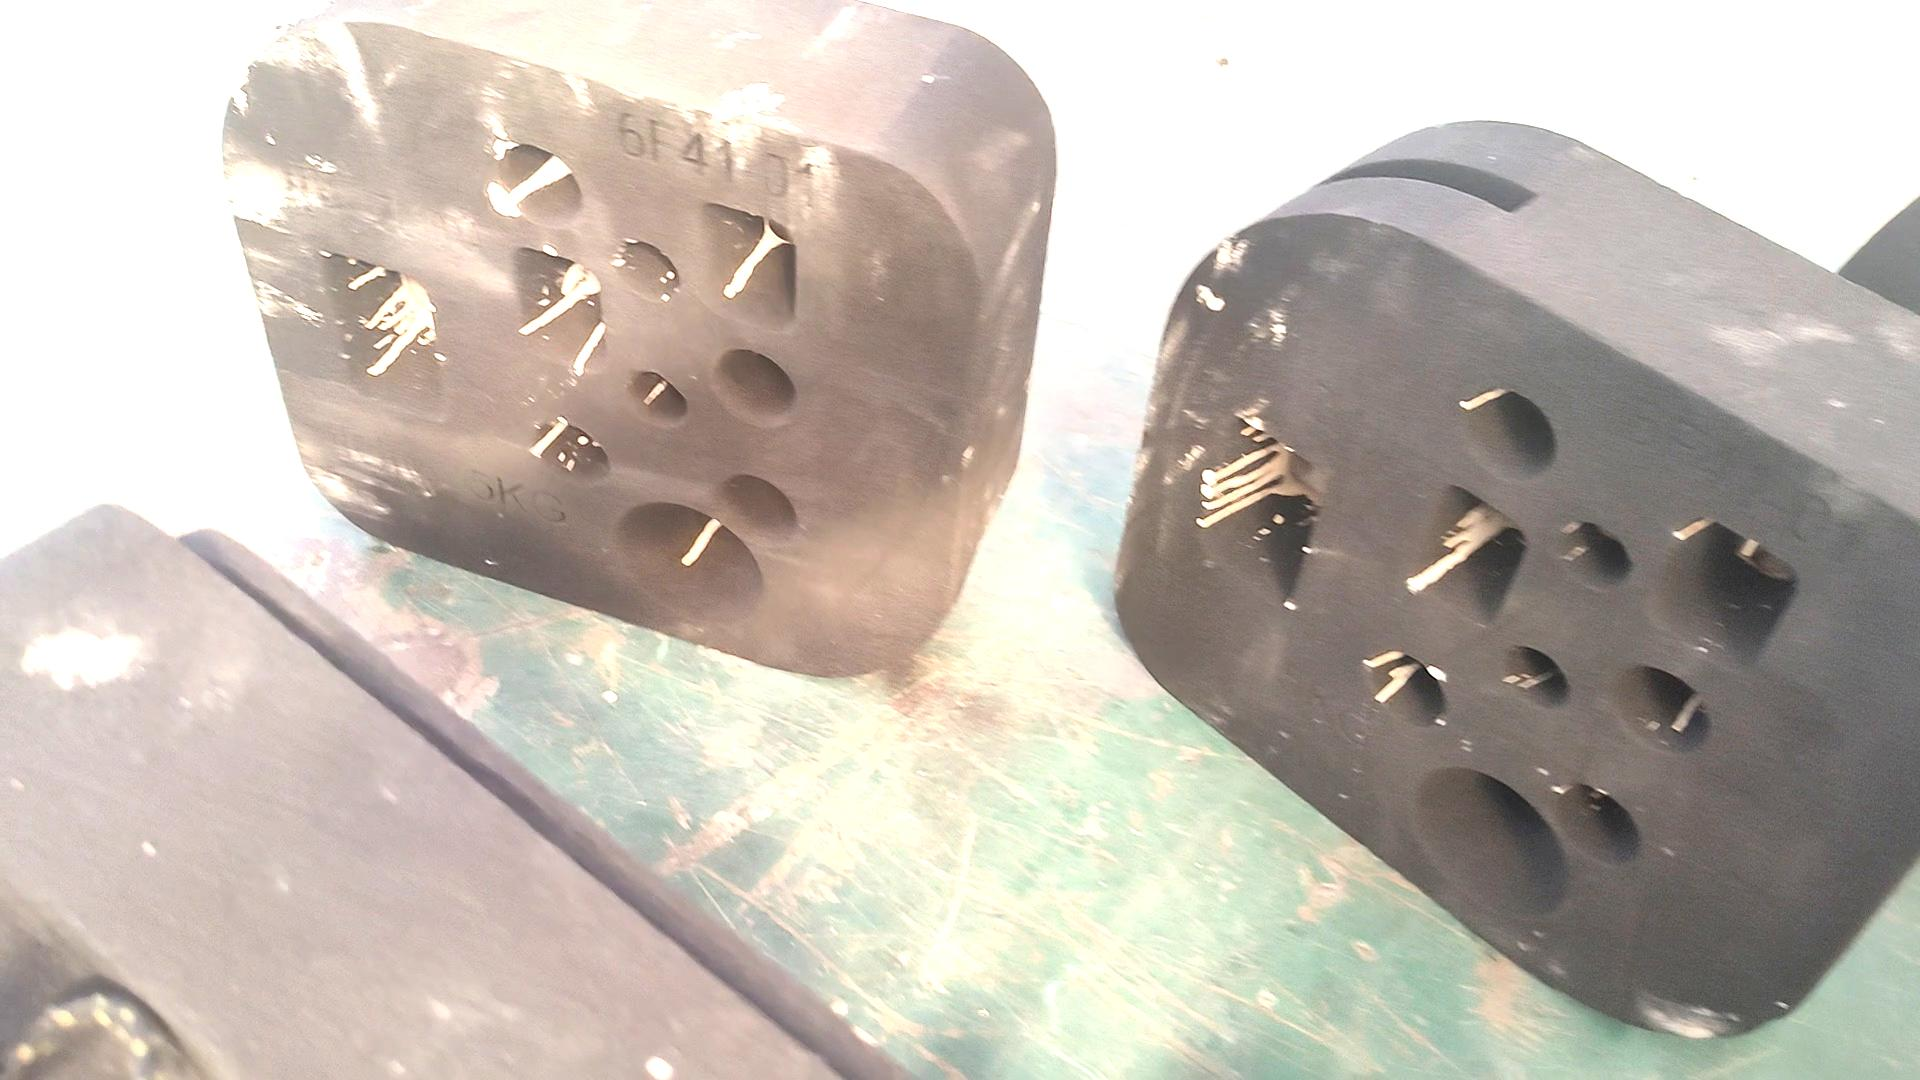pouring hole: (1408, 764, 1571, 919), (607, 501, 767, 628)
